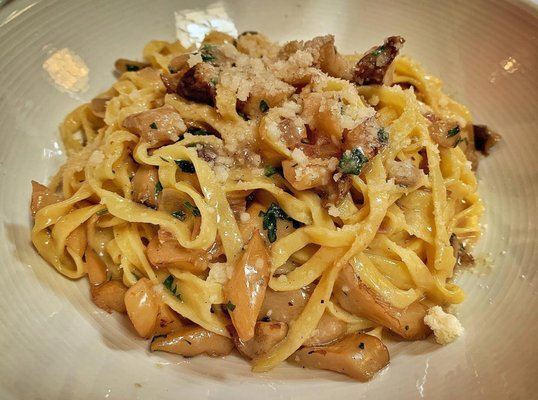curry: (1, 0, 523, 388)
